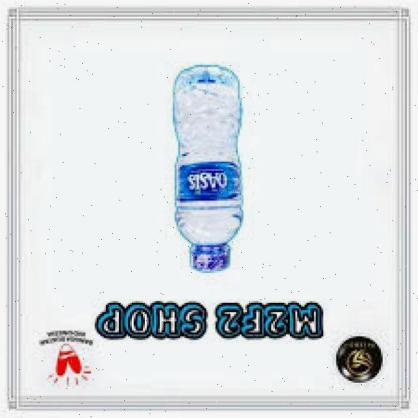bottle: (151, 54, 252, 273)
cap: (186, 242, 233, 274)
label: (170, 162, 244, 204)
